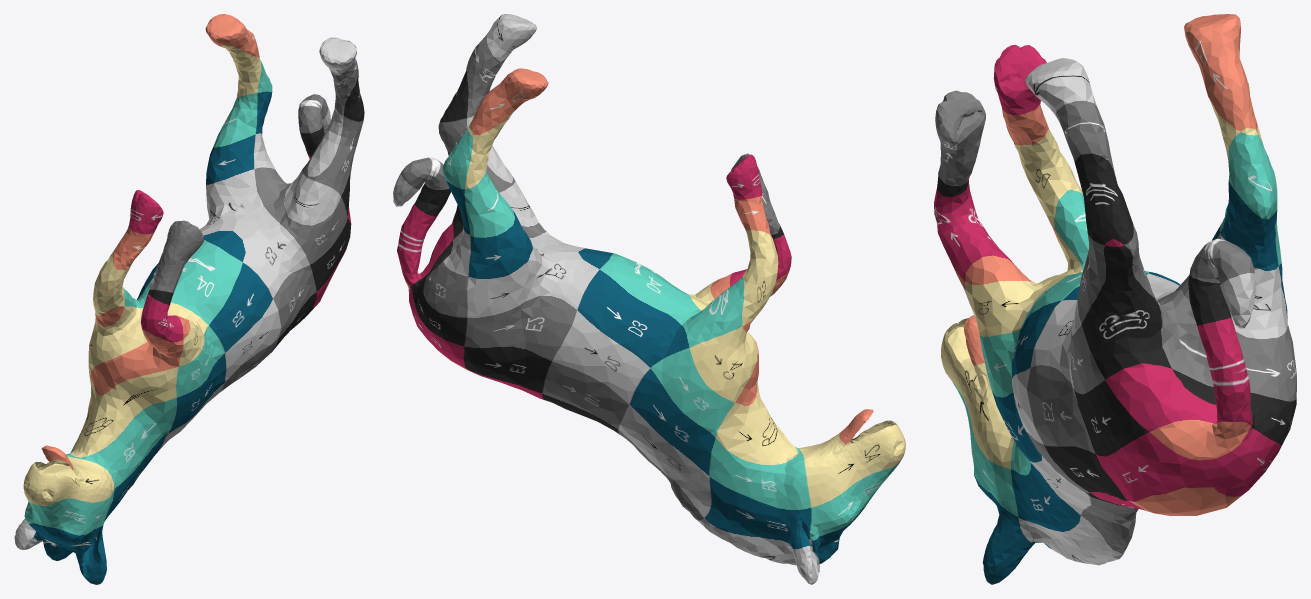
The model's file is cougar_03-horse_09.obj.
3 renders of one model, left to right at view 1: azimuth 30°, elevation 25°; view 2: azimuth 150°, elevation 25°; view 3: azimuth 270°, elevation 25°, orthographic. The views are drawn at different scales.
Visible parts, largest first — view 1: cougar_03-horse_09_export; view 2: cougar_03-horse_09_export; view 3: cougar_03-horse_09_export.
Boxes of the visible parts, left/top/right/bottom form: cougar_03-horse_09_export: left=14, top=14, right=364, bottom=584; cougar_03-horse_09_export: left=393, top=14, right=905, bottom=584; cougar_03-horse_09_export: left=934, top=14, right=1296, bottom=584.
Size of the model in its own units: 0.8115 by 0.9212 by 0.4211.
